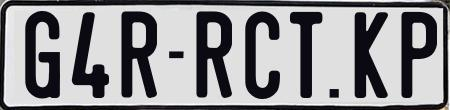4: (71, 10, 111, 101)
C: (245, 11, 282, 104)
G: (24, 8, 62, 100)
K: (355, 11, 394, 103)
P: (401, 9, 438, 101)
R: (194, 11, 236, 99), (119, 11, 155, 103)
T: (289, 9, 322, 95)
